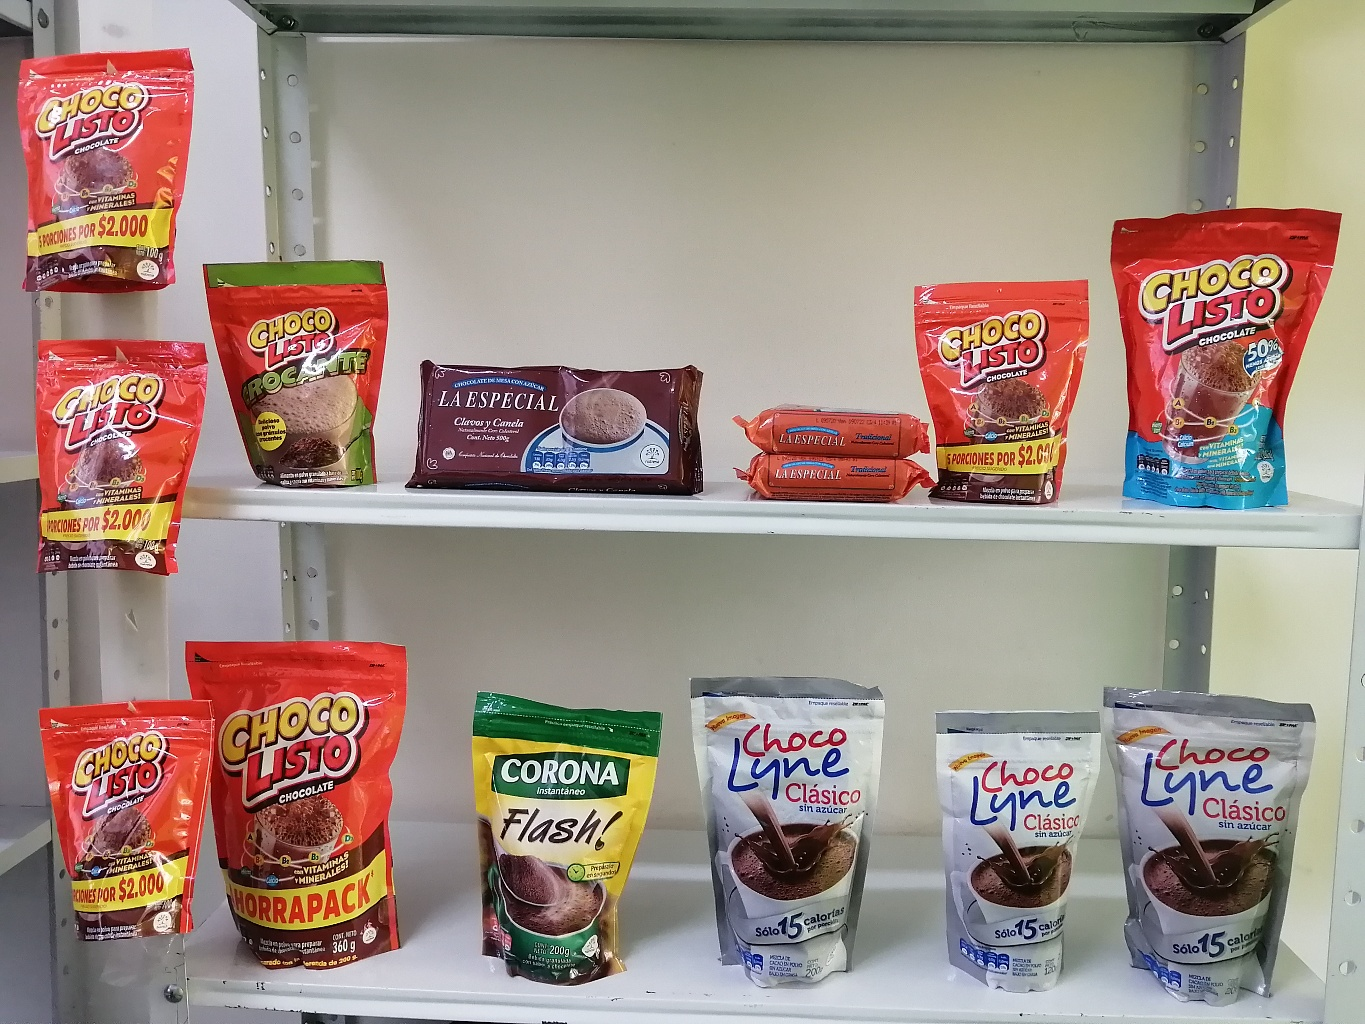COL0170102DYP10000: (196, 238, 376, 492)
COL0170103DYP10000: (926, 280, 1095, 498)
COL0170103DYP36000: (195, 634, 413, 980)
COL0170104DYP20000: (1109, 174, 1357, 520)
